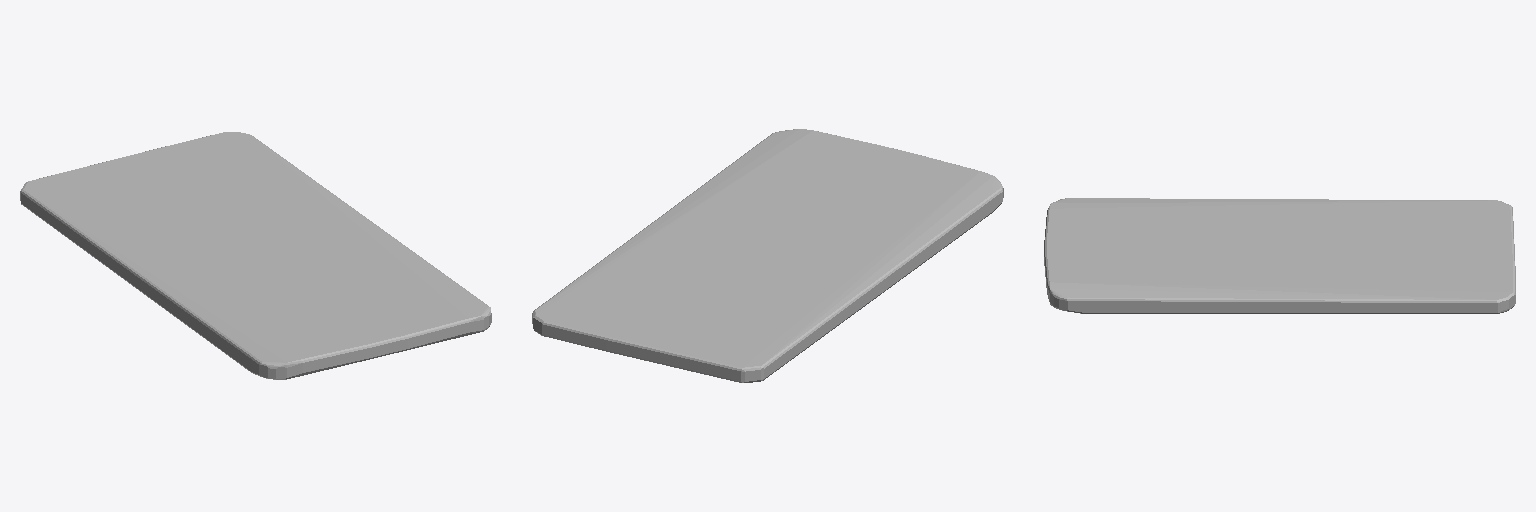
URDF robot description (root):
<robot name="root">
  <link name="link_coacd_convex_piece_0">
    <inertial>
      <origin xyz="0 0 0" rpy="0 0 0"/>
      <inertia ixx="2.01E-02" ixy="-2.88E-05" ixz="3.18E-07" iyy="5.31E-03" iyz="1.09E-04" izz="2.53E-02"/>
    </inertial>
    <visual>
      <origin xyz="0 0 0" rpy="0 0 0"/>
      <geometry>
        <mesh filename="coacd_convex_piece_0.obj" scale="1.0000E+00 1.0000E+00 1.0000E+00"/>
      </geometry>
      <material name="">
        <color rgba="7.50E-01 7.50E-01 7.50E-01 1"/>
      </material>
    </visual>
    <collision>
      <origin xyz="0 0 0" rpy="0 0 0"/>
      <geometry>
        <mesh filename="coacd_convex_piece_0.obj" scale="1.0000E+00 1.0000E+00 1.0000E+00"/>
      </geometry>
    </collision>
  </link>
</robot>

--- Facts derived from the render (not from the file) ---
The picture shows the robot from 3 angles, left to right: view 1: azimuth 30°, elevation 25°; view 2: azimuth 150°, elevation 25°; view 3: azimuth 270°, elevation 25°; orthographic projection.
Model root with 1 links and 0 joints (none), rooted at link_coacd_convex_piece_0, posed every joint at zero.
Visible links, largest first — view 1: link_coacd_convex_piece_0; view 2: link_coacd_convex_piece_0; view 3: link_coacd_convex_piece_0.
Link boxes in pixels (bbox=[...]): link_coacd_convex_piece_0: bbox=[20, 132, 491, 379]; link_coacd_convex_piece_0: bbox=[532, 129, 1003, 382]; link_coacd_convex_piece_0: bbox=[1044, 198, 1515, 313].
Bounding box of the posed robot: 0.9189 × 1.8 × 0.0782 m (x, y, z).
Meshes: 1 distinct files referenced, 1 mesh visuals loaded (1 OBJ).
